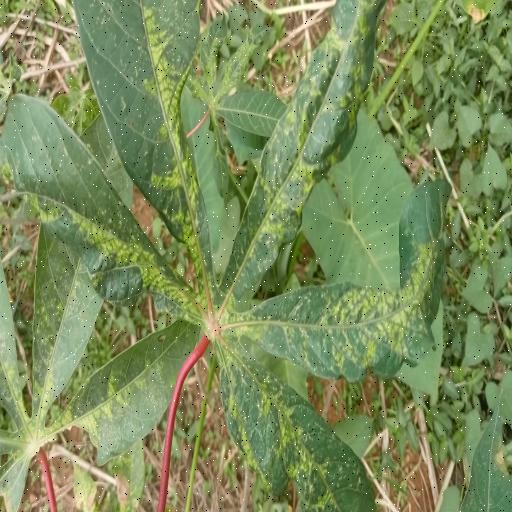Cassava_Mosaic: (0, 0, 450, 511)
